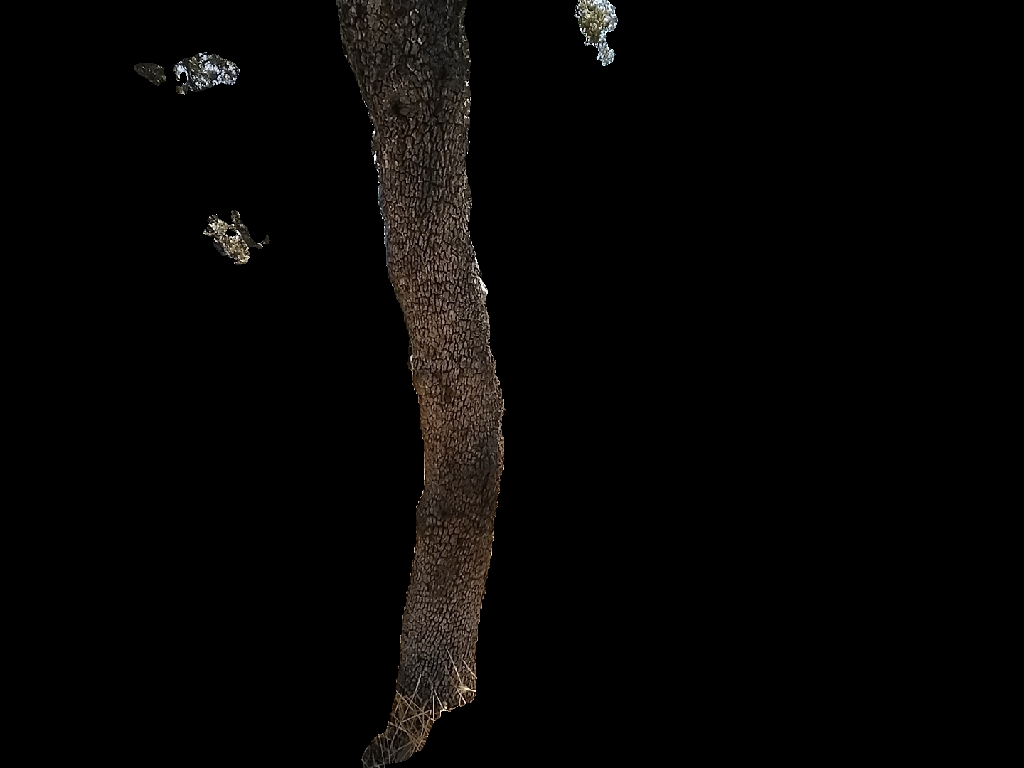Hole: (392, 105, 401, 117), (440, 68, 446, 79)
